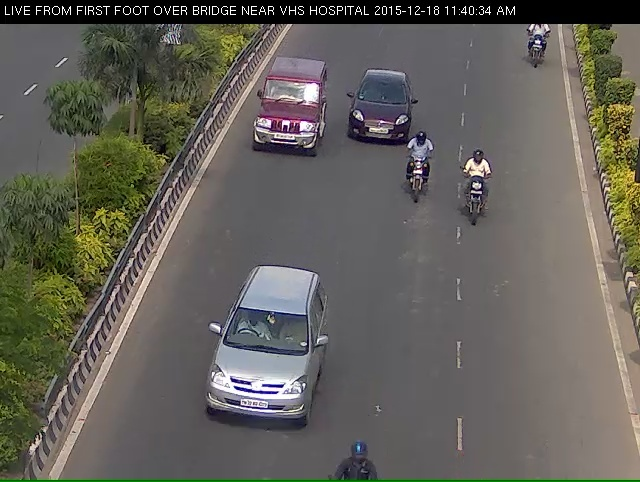Car: (192, 284, 331, 457), (250, 61, 325, 168), (341, 79, 418, 159)
Person: (457, 160, 488, 244), (408, 144, 428, 215), (526, 22, 550, 72)
